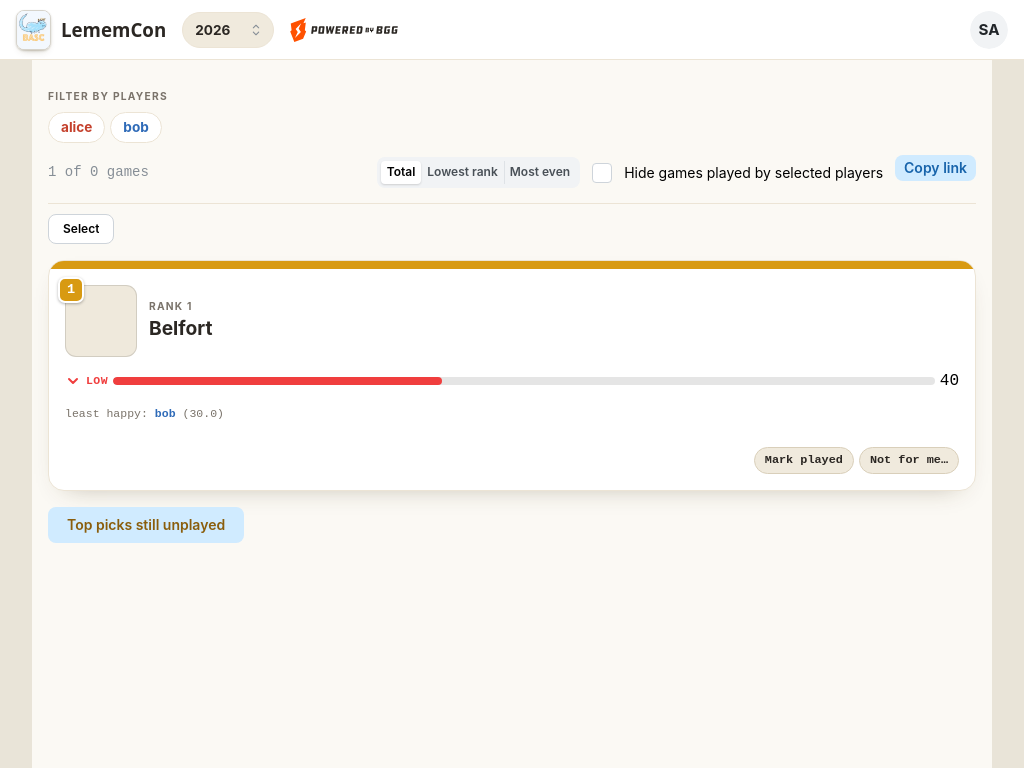
Test case: Scoreboard › marking played › closes without marking on Cancel
Click the button with aria-label "Played:" at (804, 461), box [754, 447, 854, 474]
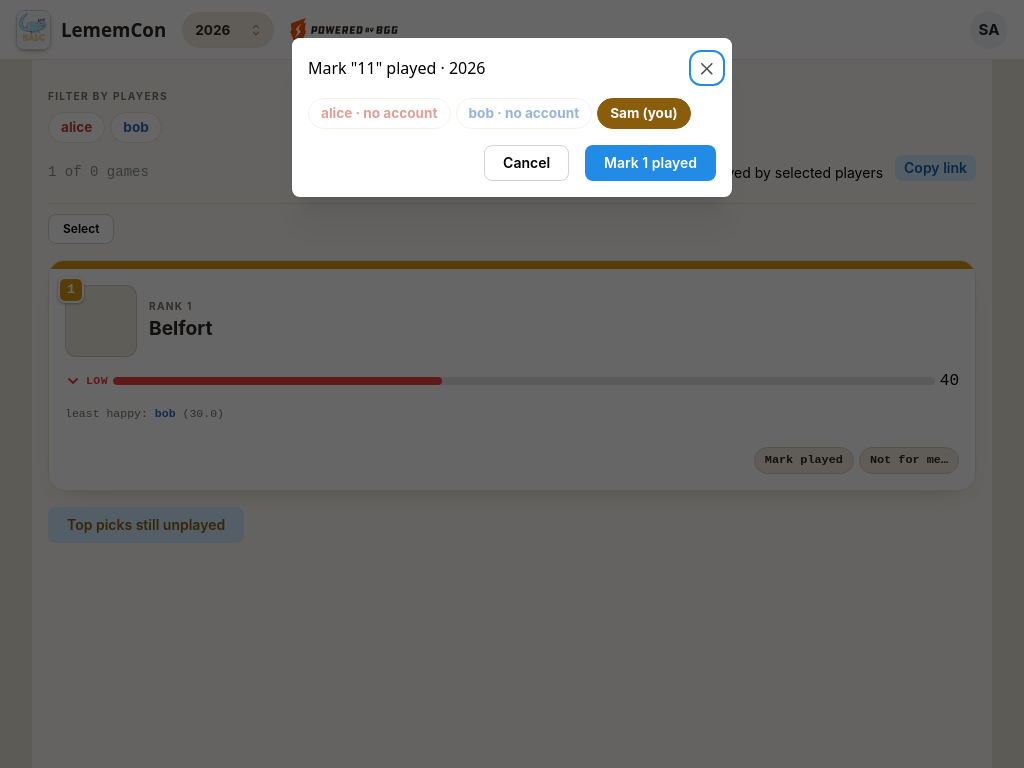
Click the button "Cancel" at (527, 163), box [484, 145, 569, 181]
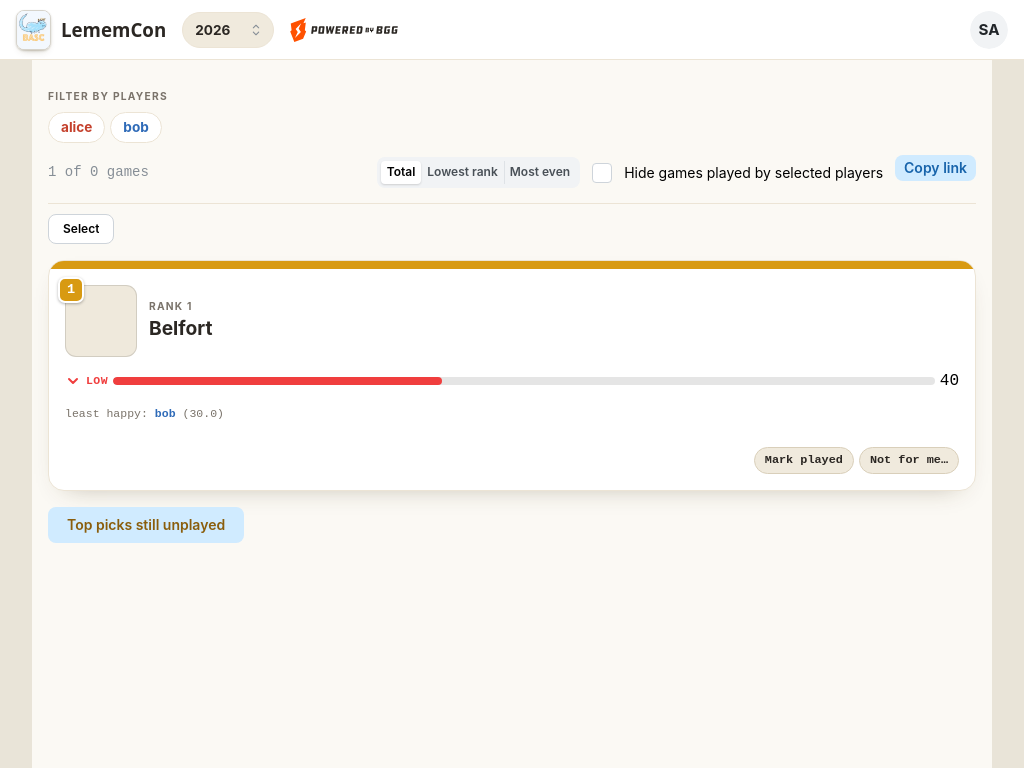
expect the dialog is gone: met
